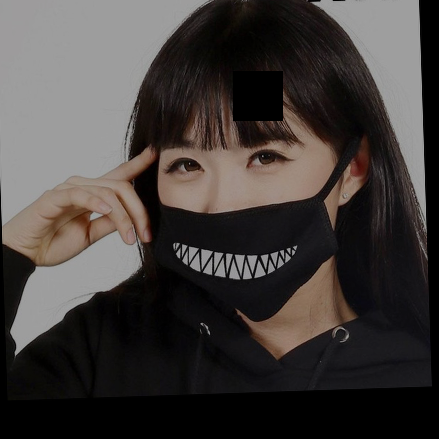with_mask: (154, 128, 341, 318)
